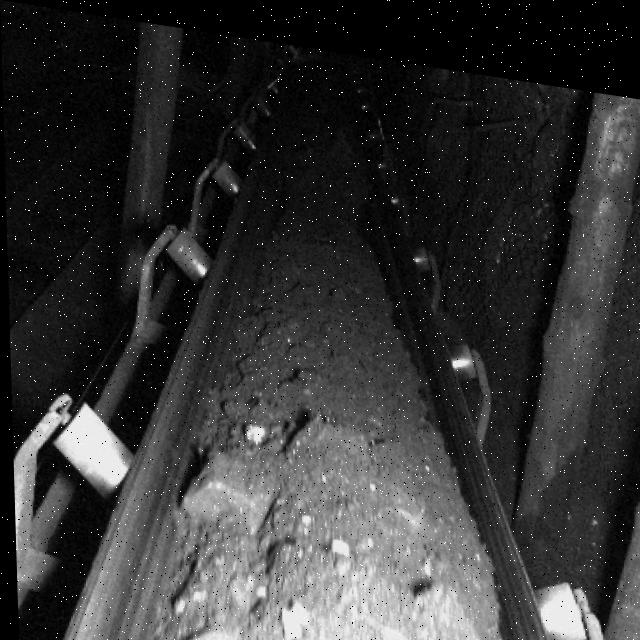large_sized_coal: (175, 443, 270, 527), (177, 621, 248, 640)
